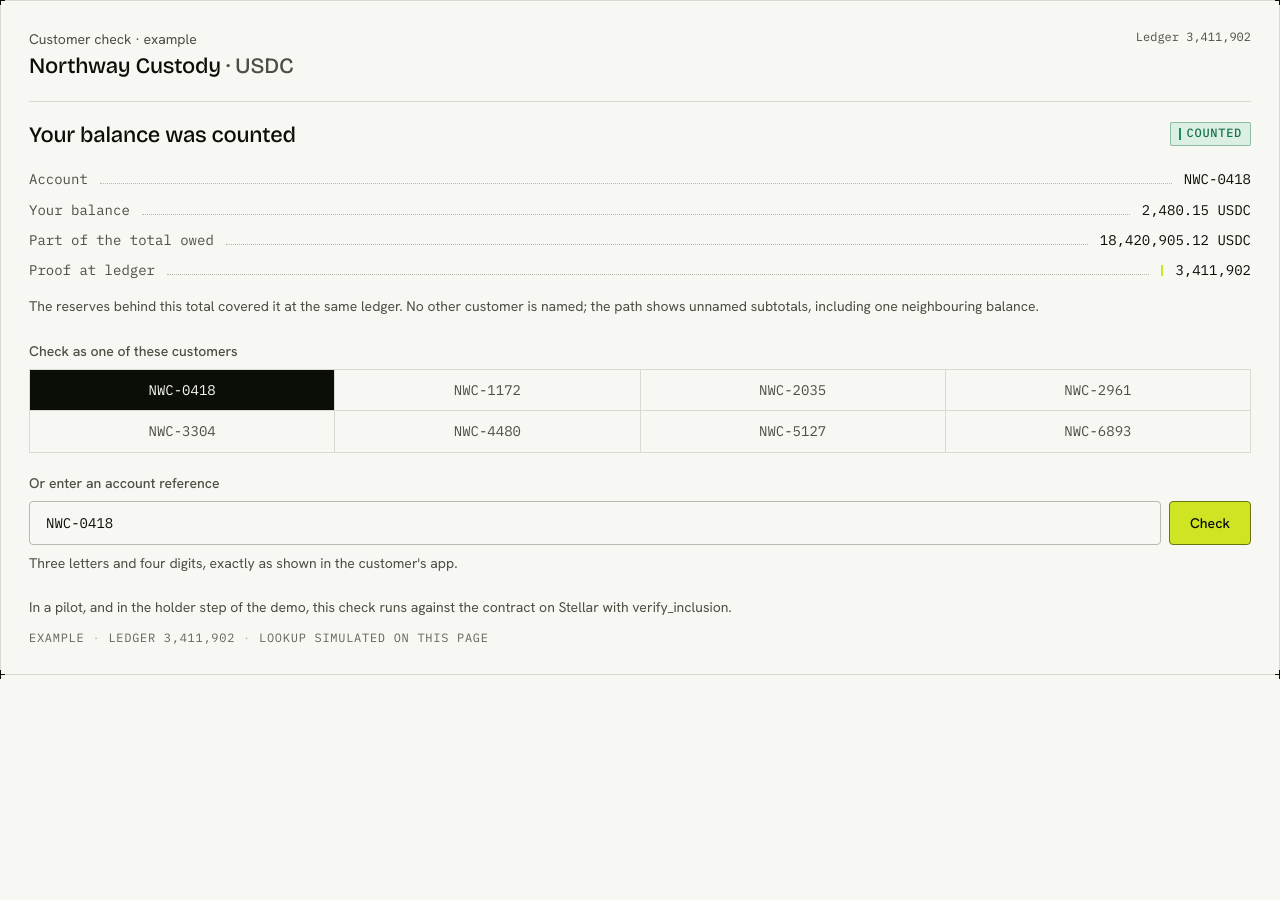
Test: InclusionCheck › checks another customer when picked
This screenshot has width=1280, height=900.
Click the radio button labelled "NWC-2961". click: (1098, 391)
box: [946,370,1251,411]
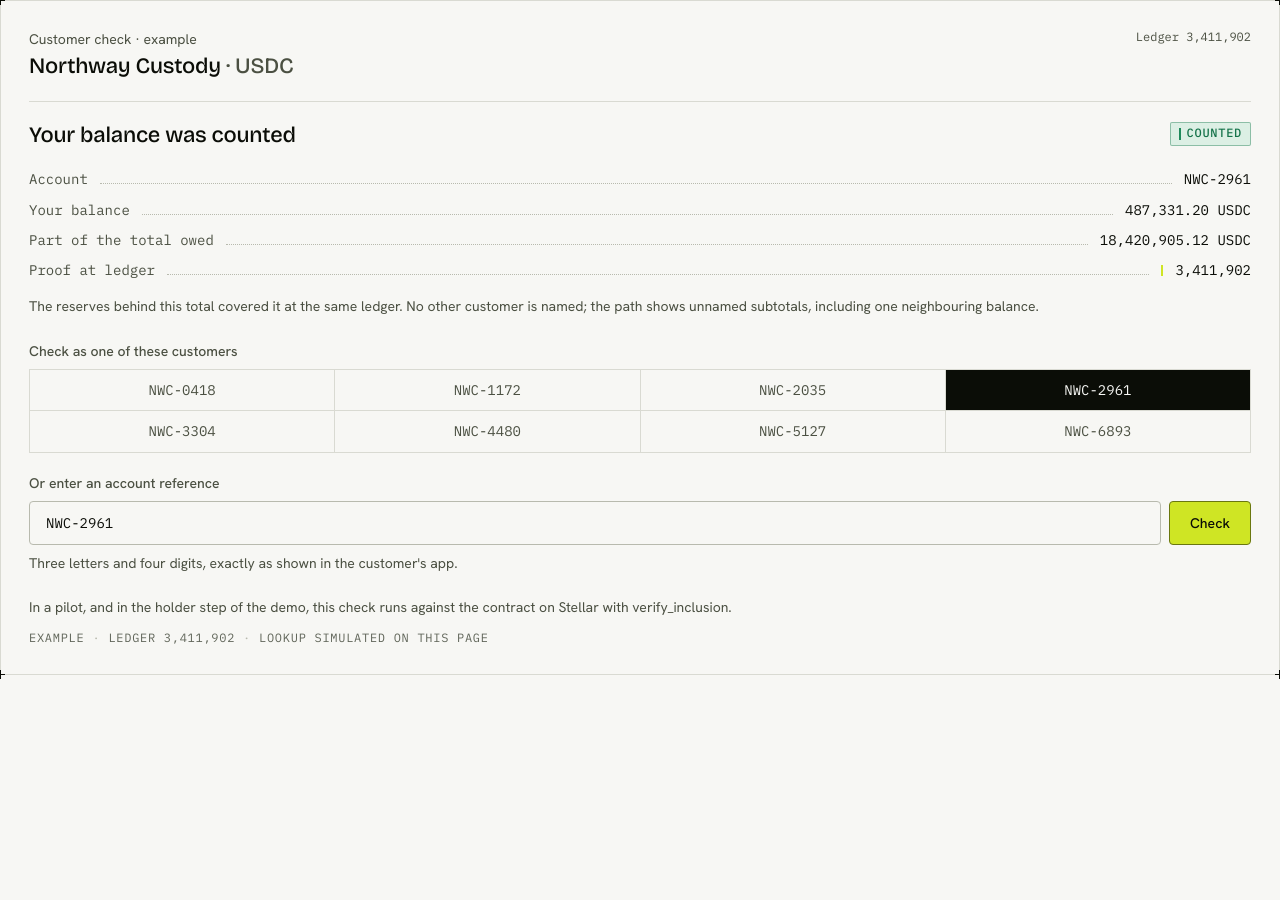
Result: the text "487,331.20 USDC" is shown at [1125,200,1251,220]
